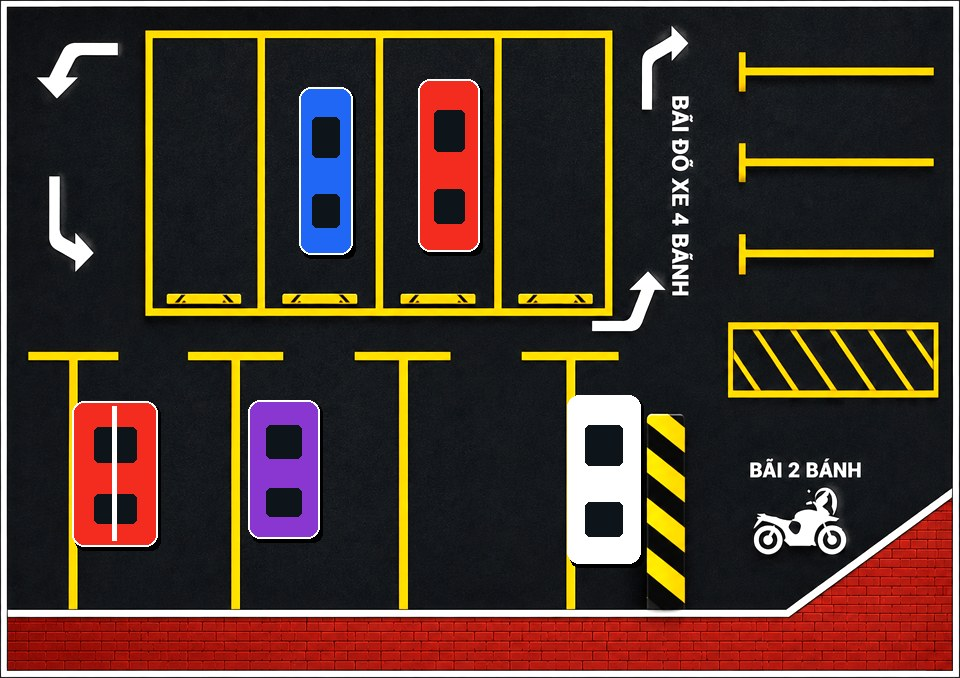empty: (360, 351, 518, 598), (148, 35, 267, 309), (505, 35, 624, 309)
occupied: (35, 351, 199, 598), (201, 351, 357, 598), (524, 351, 672, 598), (267, 35, 386, 309), (386, 35, 505, 309)
